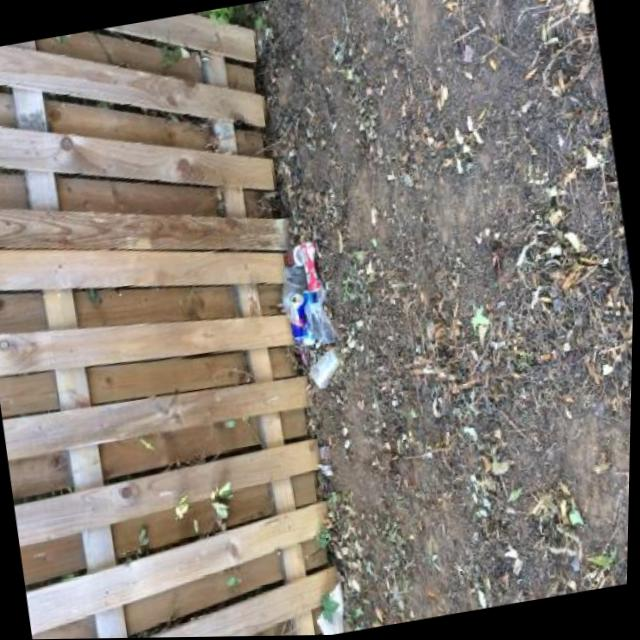metal: (296, 288, 328, 346), (300, 239, 327, 294), (288, 293, 313, 344), (284, 244, 307, 269)
paper: (311, 578, 355, 635), (319, 444, 337, 478)
plastic: (305, 295, 345, 346), (308, 345, 349, 390), (279, 266, 313, 318)
